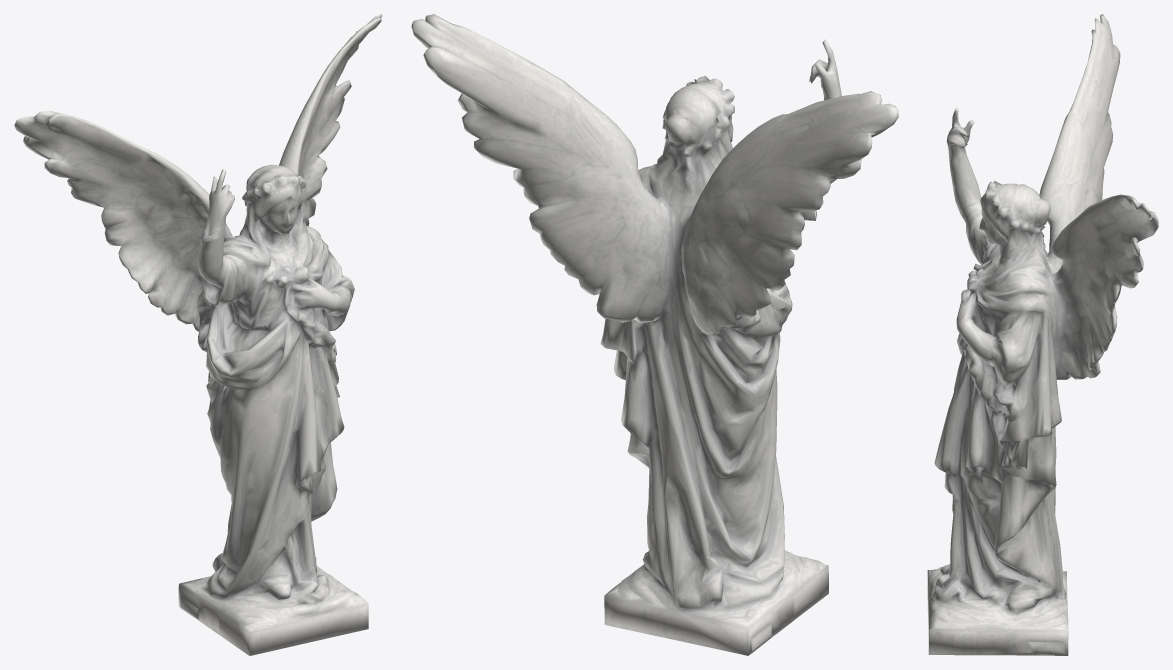
3 views of the same model, side by side, from view 1: azimuth 30°, elevation 25°; view 2: azimuth 150°, elevation 25°; view 3: azimuth 270°, elevation 25° (orthographic). The views are drawn at different scales.
Visible parts, largest first — view 1: SilverAngel_LP_Unwrap#1_0; view 2: SilverAngel_LP_Unwrap#1_0; view 3: SilverAngel_LP_Unwrap#1_0.
Boxes of the visible parts, x1,y1,x2,y2 form: SilverAngel_LP_Unwrap#1_0: [14, 14, 382, 655]; SilverAngel_LP_Unwrap#1_0: [411, 14, 898, 655]; SilverAngel_LP_Unwrap#1_0: [927, 14, 1158, 655].
Size of the model in its own units: 6.77 by 8.61 by 3.48.
1 material, 1 textured.
